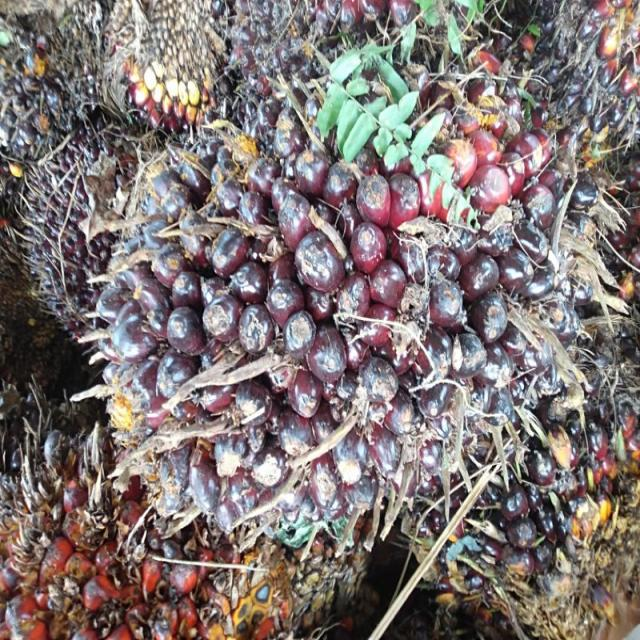fraksi 00: (104, 85, 535, 538)
